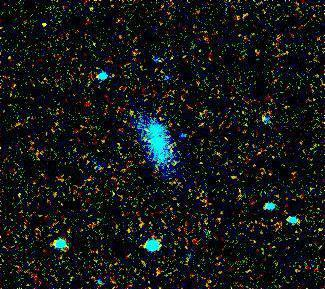star: (30, 10, 60, 40)
